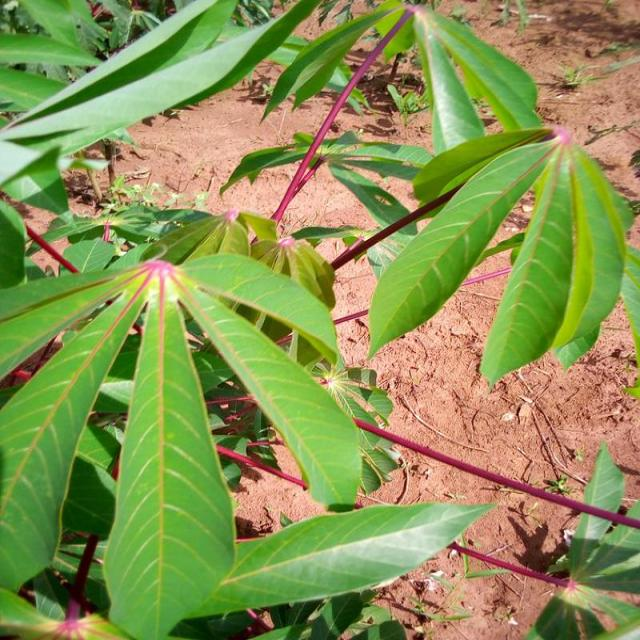cassava leaf: (366, 124, 634, 387), (101, 271, 237, 638)
